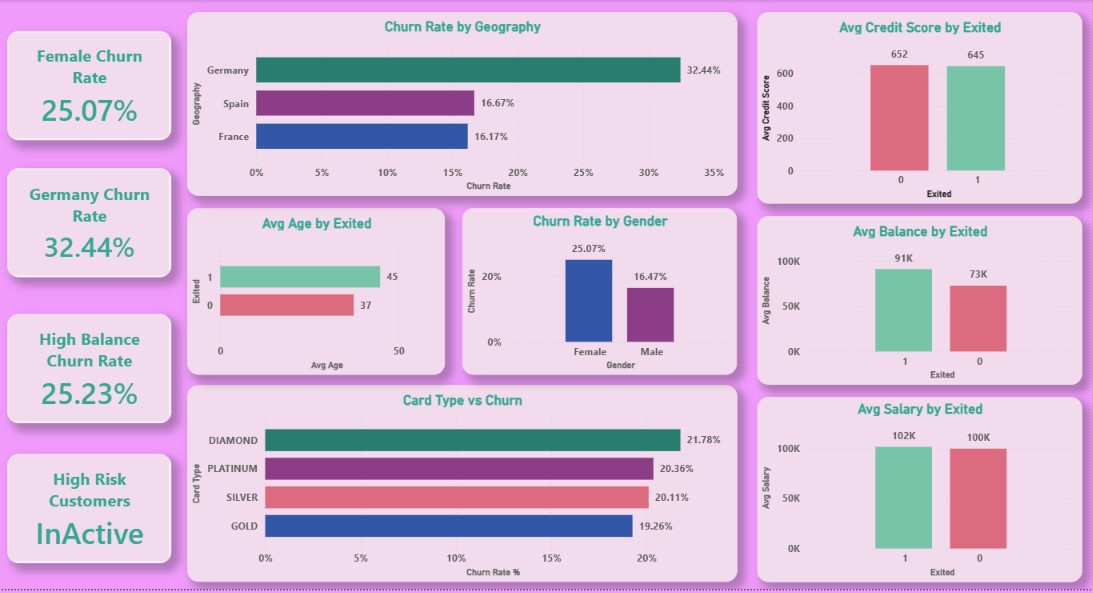

What the dashboard file says about the page in this screenshot:
{"tool":"powerbi","page":{"name":"Customer Segmentation & Risk Profiles","canvas":[1337,720],"ordinal":2},"visuals":[{"type":"cardVisual","fields":{"Data":["Customer-Churn-Records.Female Churn Rate"]},"box":[9.8,37.9,200.5,133.3],"z":0},{"type":"cardVisual","fields":{"Data":["Customer-Churn-Records.Germany Churn Rate"]},"box":[9.8,205.4,200.5,133.3],"z":1000},{"type":"cardVisual","fields":{"Data":["Customer-Churn-Records.High Balance Churn Rate"]},"box":[9.8,384,200.5,133.3],"z":2000},{"type":"cardVisual","fields":{"Data":["Customer-Churn-Records.High Risk Customers"]},"box":[9.8,555.2,200.5,133.3],"z":3000},{"type":"barChart","title":"Card Type vs Churn","fields":{"Category":["Customer-Churn-Records.Card Type"],"Y":["Customer-Churn-Records.Churn Rate"]},"box":[229.9,470.8,672.6,240.9],"z":4000},{"type":"columnChart","fields":{"Category":["Customer-Churn-Records.Exited"],"Y":["Customer-Churn-Records.Avg Credit Score"]},"box":[926.9,14.7,397.4,234.8],"z":5000},{"type":"barChart","fields":{"Category":["Customer-Churn-Records.Exited"],"Y":["Customer-Churn-Records.Avg Age"]},"box":[229.9,254.3,315.5,204.2],"z":6000},{"type":"columnChart","fields":{"Category":["Customer-Churn-Records.Exited"],"Y":["Customer-Churn-Records.Avg Balance"]},"box":[926.9,264.1,397.4,206.7],"z":7000},{"type":"columnChart","fields":{"Category":["Customer-Churn-Records.Exited"],"Y":["Customer-Churn-Records.Avg Salary"]},"box":[926.9,485.5,397.4,226.2],"z":8000},{"type":"barChart","fields":{"Category":["Customer-Churn-Records.Geography"],"Y":["Customer-Churn-Records.Churn Rate"]},"box":[229.9,14.7,672.6,225],"z":9000},{"type":"columnChart","fields":{"Category":["Customer-Churn-Records.Gender"],"Y":["Customer-Churn-Records.Churn Rate"]},"box":[566.2,254.3,336.3,204.2],"z":10000}]}

Visuals, with their boxes in screenshot pixels (x1, y1, x2, y2), scaled from the page's 1337x720 canvas onto the 1093x593 screenshot:
cardVisual - Customer-Churn-Records.Female Churn Rate: <bbox>8, 31, 172, 141</bbox>
cardVisual - Customer-Churn-Records.Germany Churn Rate: <bbox>8, 169, 172, 279</bbox>
cardVisual - Customer-Churn-Records.High Balance Churn Rate: <bbox>8, 316, 172, 426</bbox>
cardVisual - Customer-Churn-Records.High Risk Customers: <bbox>8, 457, 172, 567</bbox>
"Card Type vs Churn" barChart: <bbox>188, 388, 738, 586</bbox>
columnChart - Customer-Churn-Records.Exited x Customer-Churn-Records.Avg Credit Score: <bbox>758, 12, 1083, 205</bbox>
barChart - Customer-Churn-Records.Exited x Customer-Churn-Records.Avg Age: <bbox>188, 209, 446, 378</bbox>
columnChart - Customer-Churn-Records.Exited x Customer-Churn-Records.Avg Balance: <bbox>758, 218, 1083, 388</bbox>
columnChart - Customer-Churn-Records.Exited x Customer-Churn-Records.Avg Salary: <bbox>758, 400, 1083, 586</bbox>
barChart - Customer-Churn-Records.Geography x Customer-Churn-Records.Churn Rate: <bbox>188, 12, 738, 197</bbox>
columnChart - Customer-Churn-Records.Gender x Customer-Churn-Records.Churn Rate: <bbox>463, 209, 738, 378</bbox>
